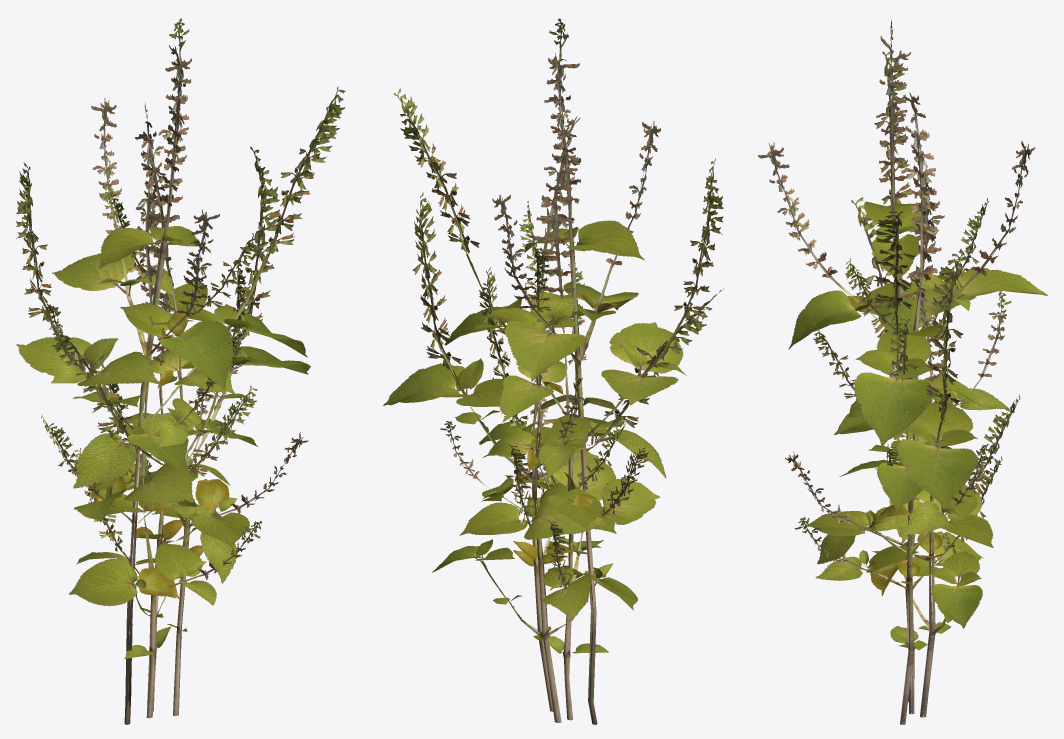
File: shrub_03.glb
3 renders of one model, left to right at view 1: azimuth 30°, elevation 25°; view 2: azimuth 150°, elevation 25°; view 3: azimuth 270°, elevation 25°, orthographic. The views are drawn at different scales.
Visible parts, largest first — view 1: plant_0, plant_1, plant_2, plant_3; view 2: plant_0, plant_1, plant_2, plant_3; view 3: plant_0, plant_1, plant_2, plant_3.
Boxes of the visible parts, box(x1,y1,x2,y2) form: plant_0: box(16, 18, 345, 724); plant_1: box(45, 102, 310, 716); plant_2: box(46, 176, 262, 718); plant_3: box(69, 265, 237, 711); plant_0: box(394, 18, 723, 724); plant_1: box(383, 116, 724, 711); plant_2: box(479, 199, 619, 720); plant_3: box(432, 277, 637, 722); plant_0: box(758, 20, 1047, 702); plant_1: box(785, 92, 1020, 724); plant_2: box(795, 181, 1011, 714); plant_3: box(817, 276, 988, 717).
Bounding box in the file's own units: 0.2006 × 0.4028 × 0.1512.
1 material, 1 textured.
